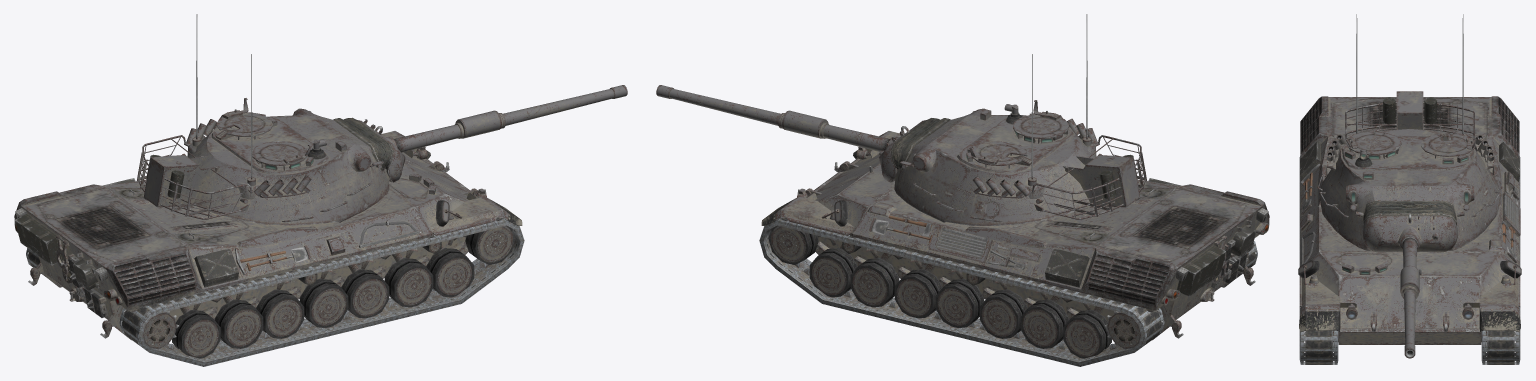
The model's file is leopard-1a1-module-placeholder.glb.
3 views of the same model, side by side, from view 1: azimuth 30°, elevation 25°; view 2: azimuth 150°, elevation 25°; view 3: azimuth 270°, elevation 25° (orthographic). The views are drawn at different scales.
Parts seen in each view (by area): view 1: hull_lod0, turret_01_lod0, chassis_track_R_lod0, gun_01_lod0, chassis_wheel_R_04_lod0, chassis_wheel_R_07_lod0, chassis_wheel_R_10_lod0, chassis_wheel_R_12_lod0, chassis_wheel_R_09_lod0, chassis_wheel_R_06_lod0, chassis_wheel_R_02_lod0, chassis_wheel_R_01_lod0 (+2 smaller); view 2: hull_lod0, turret_01_lod0, chassis_track_L_lod0, gun_01_lod0, chassis_wheel_L_04_lod0, chassis_wheel_L_07_lod0, chassis_wheel_L_10_lod0, chassis_wheel_L_12_lod0, chassis_wheel_L_09_lod0, chassis_wheel_L_06_lod0, chassis_wheel_L_02_lod0, chassis_wheel_L_01_lod0 (+2 smaller); view 3: hull_lod0, turret_01_lod0, gun_01_mask_lod0, gun_01_lod0, chassis_track_R_lod0, chassis_track_L_lod0.
Part boxes in pixels (x1,y1,x2,y2): hull_lod0: [14, 131, 522, 340]; turret_01_lod0: [137, 14, 389, 225]; chassis_track_R_lod0: [119, 218, 524, 366]; gun_01_lod0: [394, 85, 627, 152]; chassis_wheel_R_04_lod0: [384, 258, 433, 307]; chassis_wheel_R_07_lod0: [299, 278, 348, 327]; chassis_wheel_R_10_lod0: [214, 299, 263, 348]; chassis_wheel_R_12_lod0: [172, 310, 220, 359]; chassis_wheel_R_09_lod0: [256, 289, 304, 338]; chassis_wheel_R_06_lod0: [341, 269, 389, 318]; chassis_wheel_R_02_lod0: [426, 248, 474, 297]; chassis_wheel_R_01_lod0: [465, 219, 515, 264]; hull_lod0: [761, 131, 1269, 340]; turret_01_lod0: [894, 14, 1146, 225]; chassis_track_L_lod0: [759, 218, 1164, 366]; gun_01_lod0: [656, 85, 889, 151]; chassis_wheel_L_04_lod0: [850, 258, 899, 307]; chassis_wheel_L_07_lod0: [935, 278, 984, 327]; chassis_wheel_L_10_lod0: [1020, 299, 1069, 348]; chassis_wheel_L_12_lod0: [1063, 310, 1111, 359]; chassis_wheel_L_09_lod0: [979, 289, 1027, 338]; chassis_wheel_L_06_lod0: [894, 269, 942, 318]; chassis_wheel_L_02_lod0: [809, 248, 857, 297]; chassis_wheel_L_01_lod0: [768, 219, 818, 264]; hull_lod0: [1298, 96, 1521, 344]; turret_01_lod0: [1317, 14, 1502, 250]; gun_01_mask_lod0: [1362, 208, 1457, 252]; gun_01_lod0: [1400, 237, 1419, 358]; chassis_track_R_lod0: [1299, 156, 1338, 364]; chassis_track_L_lod0: [1481, 156, 1520, 364].
Size of the model in its own units: 9.56 by 4.38 by 3.31.
Materials: 8 (2 with a texture image).
